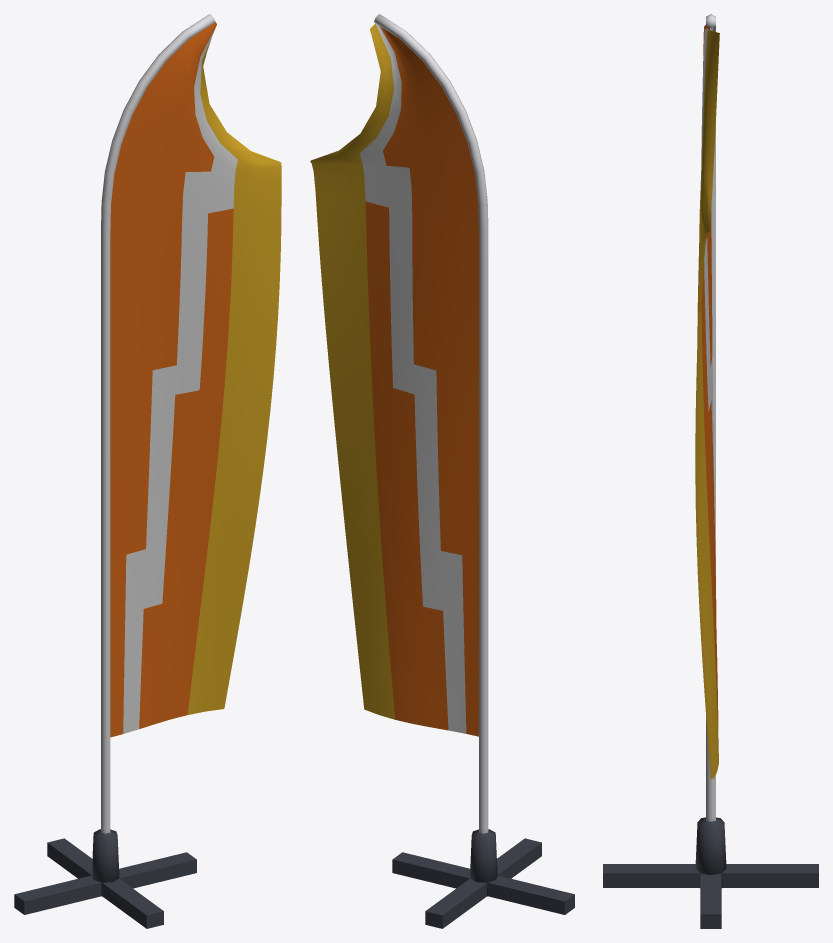
Rendered from feather_banner.glb.
The picture shows the model from 3 angles, left to right: view 1: azimuth 30°, elevation 25°; view 2: azimuth 150°, elevation 25°; view 3: azimuth 270°, elevation 25°; orthographic projection. The views are drawn at different scales.
Visible parts, largest first — view 1: feather_banner_mesh; view 2: feather_banner_mesh; view 3: feather_banner_mesh.
Boxes of the visible parts, x1,y1,x2,y2 form: feather_banner_mesh: [14, 14, 281, 928]; feather_banner_mesh: [310, 14, 574, 928]; feather_banner_mesh: [603, 14, 818, 928].
Bounding box in the file's own units: 1.21 × 3.77 × 0.8.
